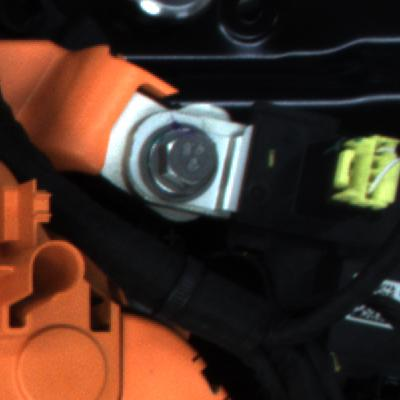nut_b: (128, 109, 230, 206)
